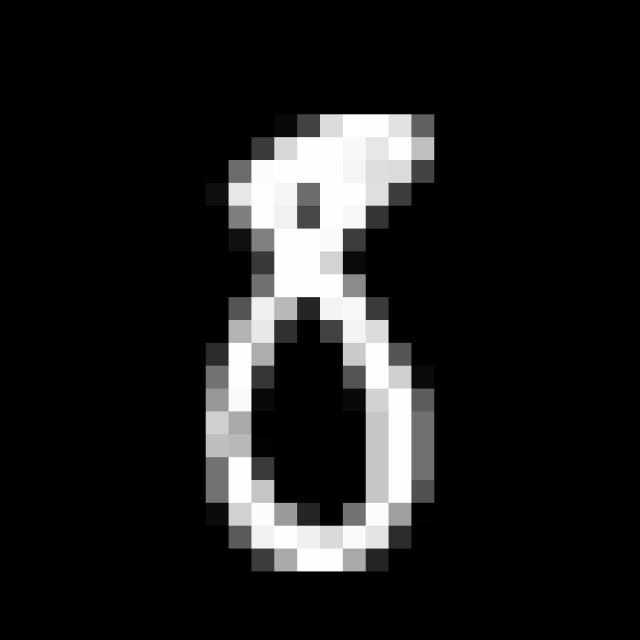eight -8-: (208, 107, 455, 586)
